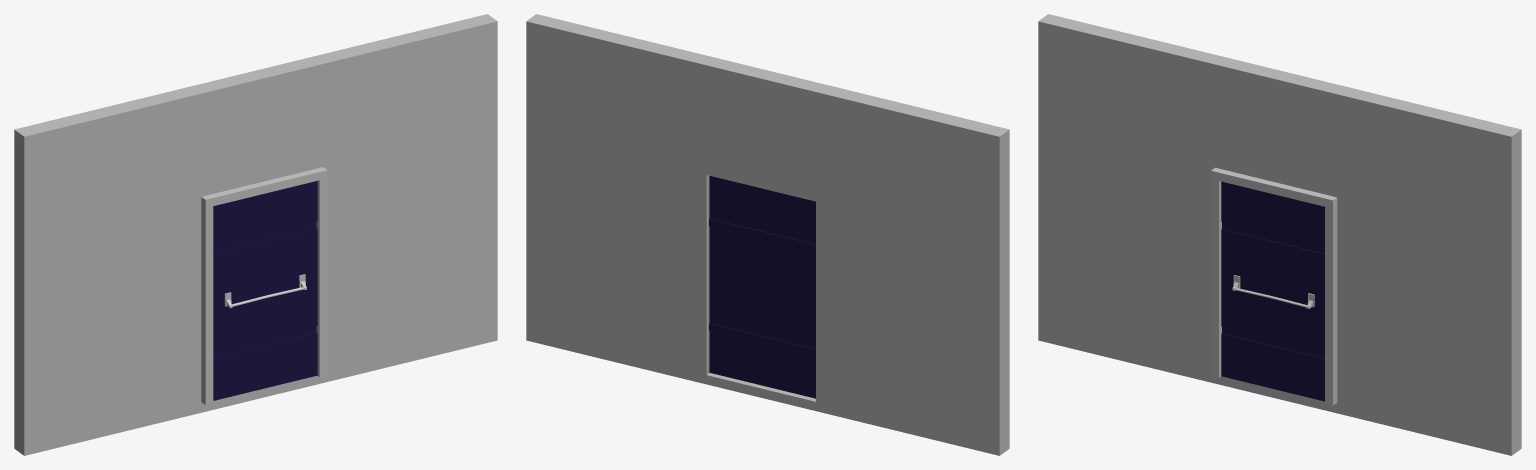
Rendered from ParedeFundo(EscritórioCorr).glb.
3 views of the same model, side by side, from view 1: azimuth 30°, elevation 25°; view 2: azimuth 150°, elevation 25°; view 3: azimuth 330°, elevation 25° (orthographic).
Parts seen in each view (by area): view 1: OfficeEmergencyWall-col, EmergencyDoor-convcol, EmergencyDoorFrame-convcol; view 2: OfficeEmergencyWall-col, EmergencyDoor-convcol; view 3: OfficeEmergencyWall-col, EmergencyDoor-convcol, EmergencyDoorFrame-convcol.
Boxes of the visible parts, x1,y1,x2,y2 form: OfficeEmergencyWall-col: (14,14,497,455); EmergencyDoor-convcol: (213,181,317,400); EmergencyDoorFrame-convcol: (201,167,327,404); OfficeEmergencyWall-col: (526,14,1009,455); EmergencyDoor-convcol: (709,176,815,398); OfficeEmergencyWall-col: (1038,14,1521,455); EmergencyDoor-convcol: (1221,181,1324,401); EmergencyDoorFrame-convcol: (1211,167,1337,405).
Size of the model in its own units: 5.43 by 3.5 by 0.3154.
